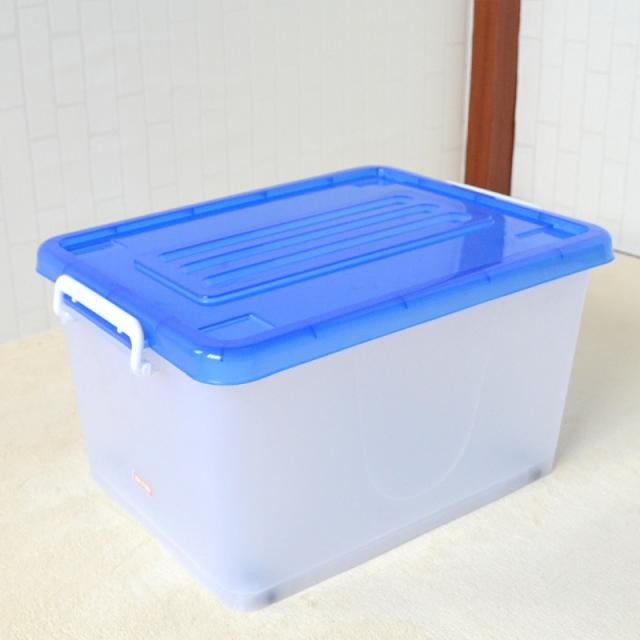plastic_box: (33, 137, 628, 637)
